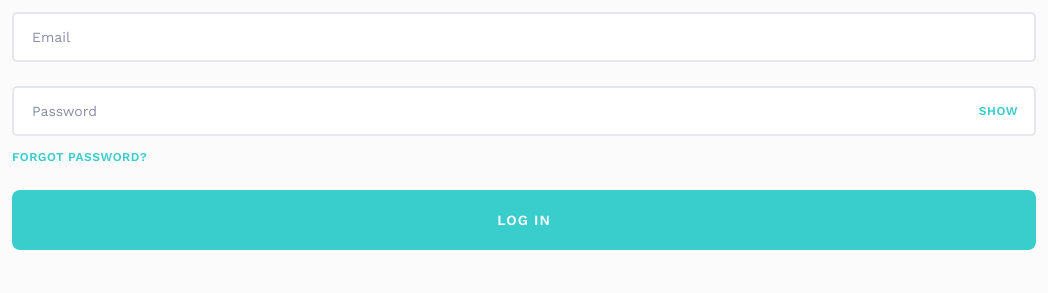
Test: LoginForm › negative › does not submit and shows a format error for an invalid email
Type "not-an-email" into the field with placeholder "Email" at (524, 37), box [30, 14, 1018, 60]
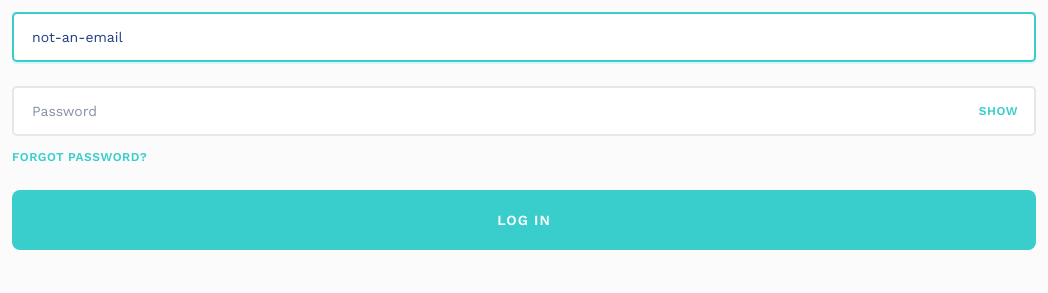
Type "password123" into the password field with placeholder "Password" at (498, 111), box [30, 88, 967, 134]
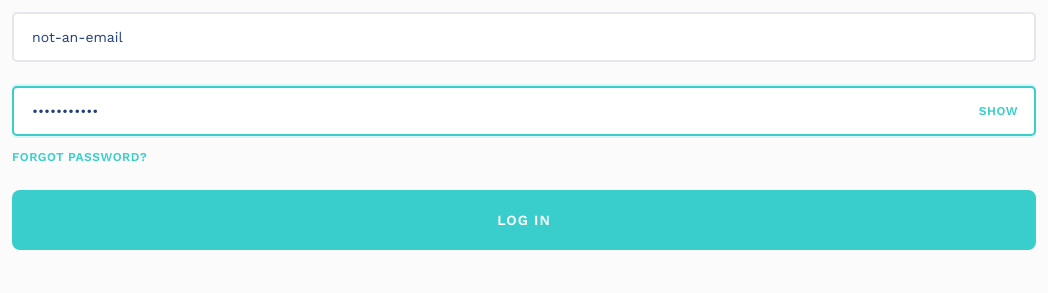
Click the button "Log in" at (524, 220), box [12, 190, 1036, 250]
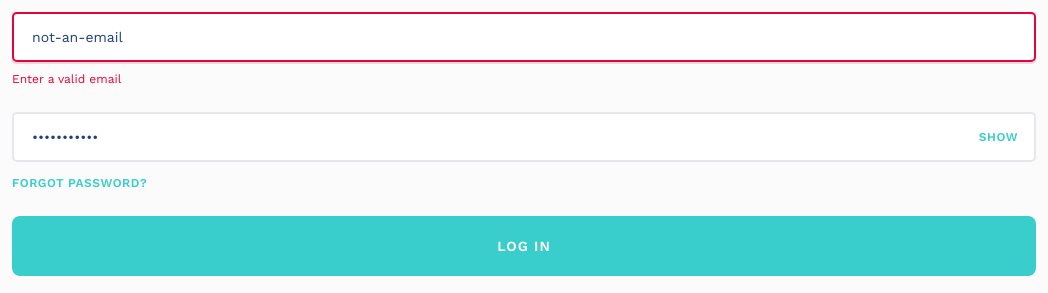
Result: the text "Enter a valid email" is shown at [12, 72, 121, 86]
